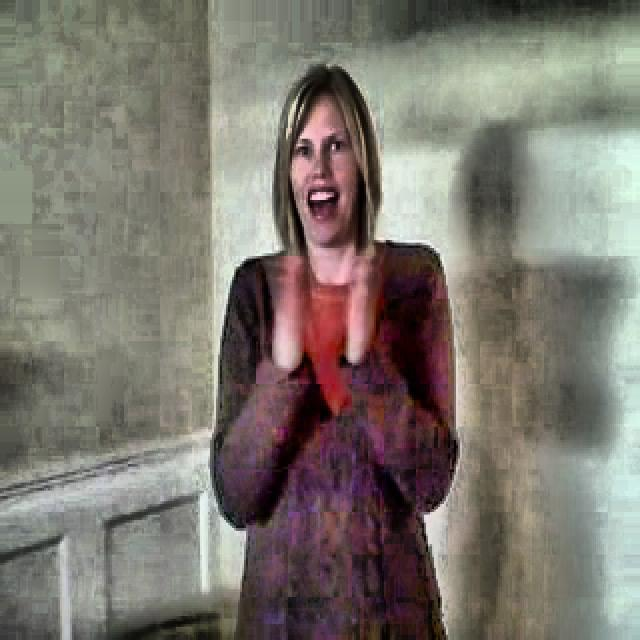F: (192, 53, 465, 626)
